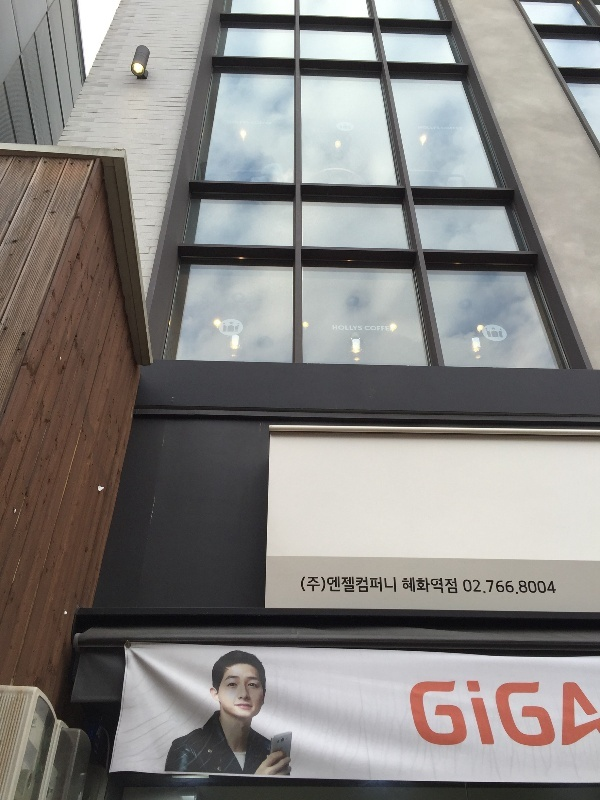text: (417, 678, 432, 751), (433, 678, 448, 751), (449, 678, 464, 751), (465, 678, 480, 751), (481, 678, 496, 751), (497, 678, 512, 751), (513, 678, 528, 751), (529, 678, 544, 751), (545, 678, 560, 751), (577, 681, 592, 751), (563, 681, 576, 751), (407, 678, 416, 751), (593, 681, 600, 751), (465, 580, 480, 599), (481, 580, 496, 599), (497, 580, 512, 599), (513, 580, 528, 599), (529, 580, 544, 599), (417, 578, 432, 594), (433, 578, 448, 594), (545, 580, 557, 599), (305, 577, 320, 592), (321, 577, 336, 592), (337, 577, 352, 592), (353, 577, 368, 592), (369, 577, 384, 592), (402, 578, 416, 594), (385, 577, 397, 592), (449, 578, 458, 594), (337, 325, 352, 331), (369, 326, 384, 331), (353, 325, 363, 331), (301, 577, 304, 592), (462, 580, 464, 599), (385, 326, 390, 331), (333, 325, 336, 331), (365, 326, 368, 331)
